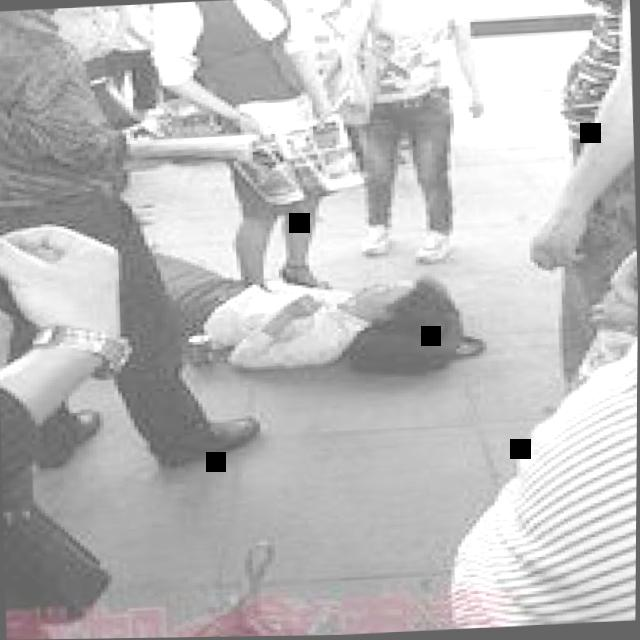Fall-Detected: (29, 215, 492, 389)
